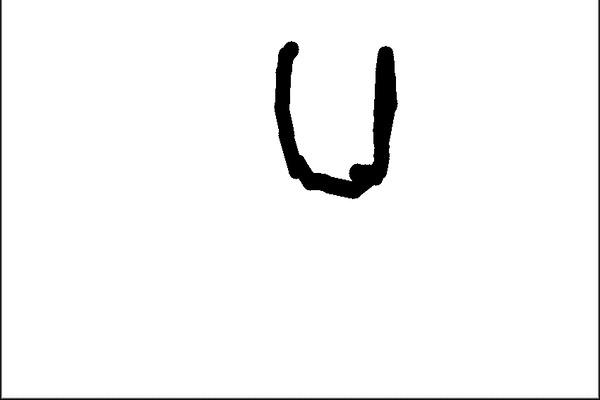U: (258, 33, 407, 201)
